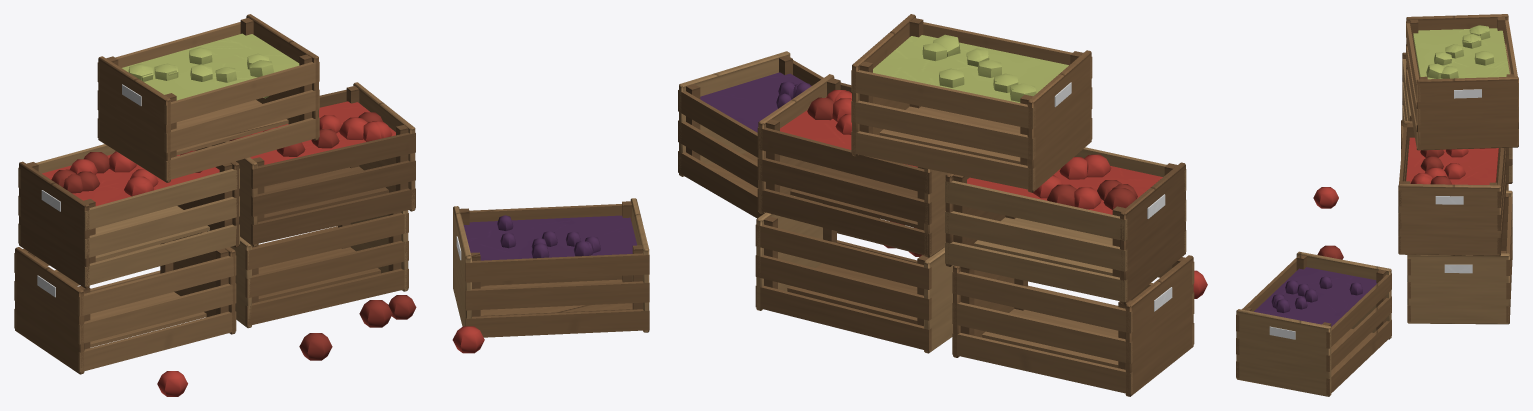
File: fruit_crate_stack.glb
3 views of the same model, side by side, from view 1: azimuth 30°, elevation 25°; view 2: azimuth 150°, elevation 25°; view 3: azimuth 270°, elevation 25° (orthographic). The views are drawn at different scales.
Parts seen in each view (by area): view 1: fruit_crate_stack; view 2: fruit_crate_stack; view 3: fruit_crate_stack.
Boxes of the visible parts, bbox=[...] form: fruit_crate_stack: bbox=[14, 14, 649, 396]; fruit_crate_stack: bbox=[678, 14, 1207, 396]; fruit_crate_stack: bbox=[1236, 14, 1518, 396].
Bounding box in the file's own units: 1.94 × 0.9038 × 1.11.
13 materials, 13 textured.
